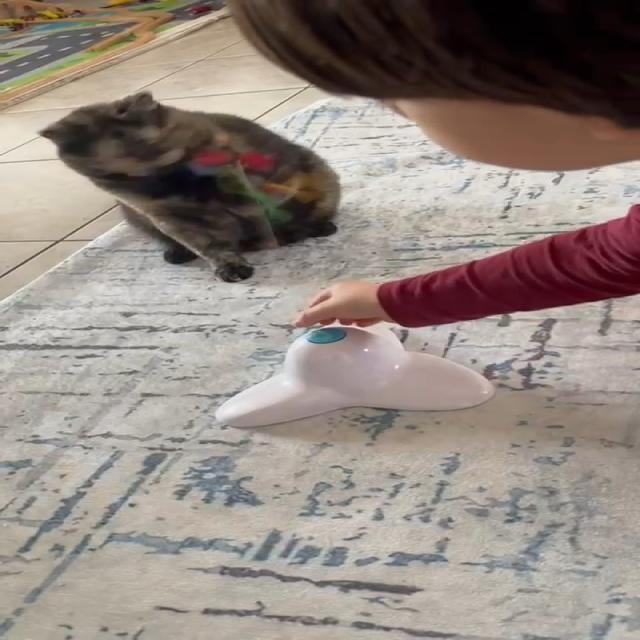authorized: (38, 90, 342, 282)
